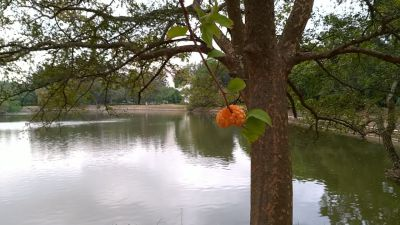eggs: (215, 103, 248, 133)
